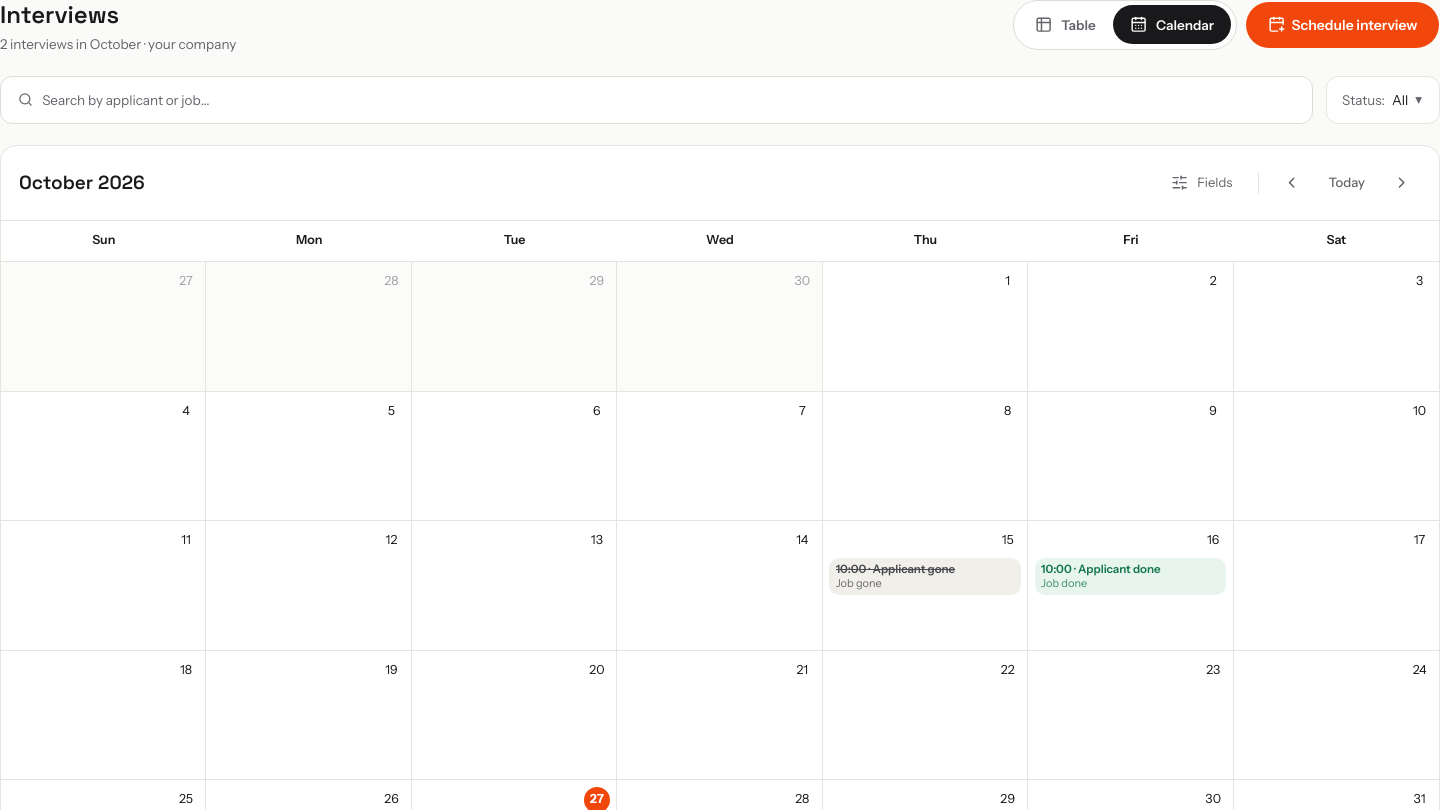
Test: Recruiter interviews calendar › offers a cancelled interview to be deleted from the summary, but not a completed one
Click the text "10:00 · Applicant gone" at (895, 569), box [836,562,955,576]
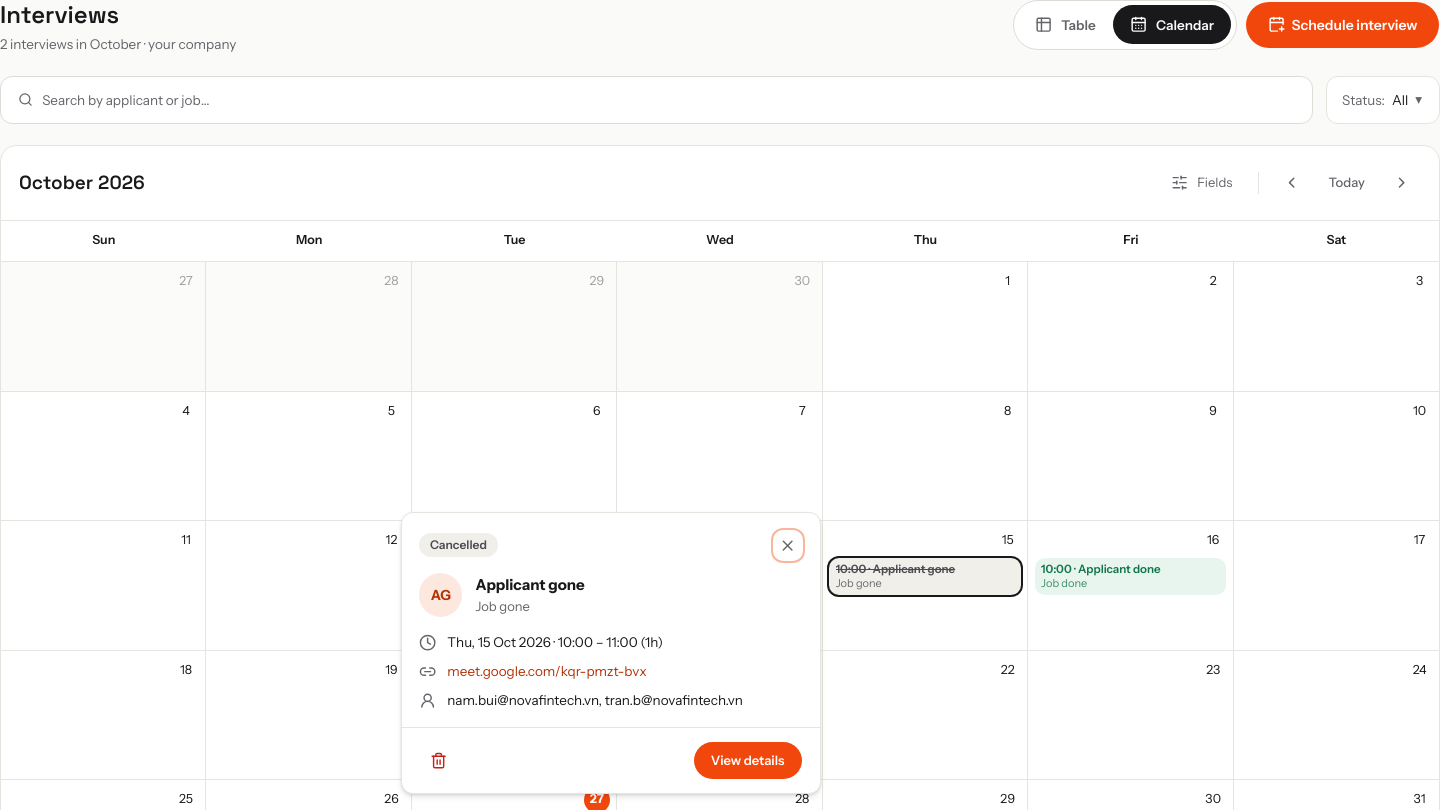
Now the button named "Delete interview" is shown, box [419,741,458,780]
Press Escape
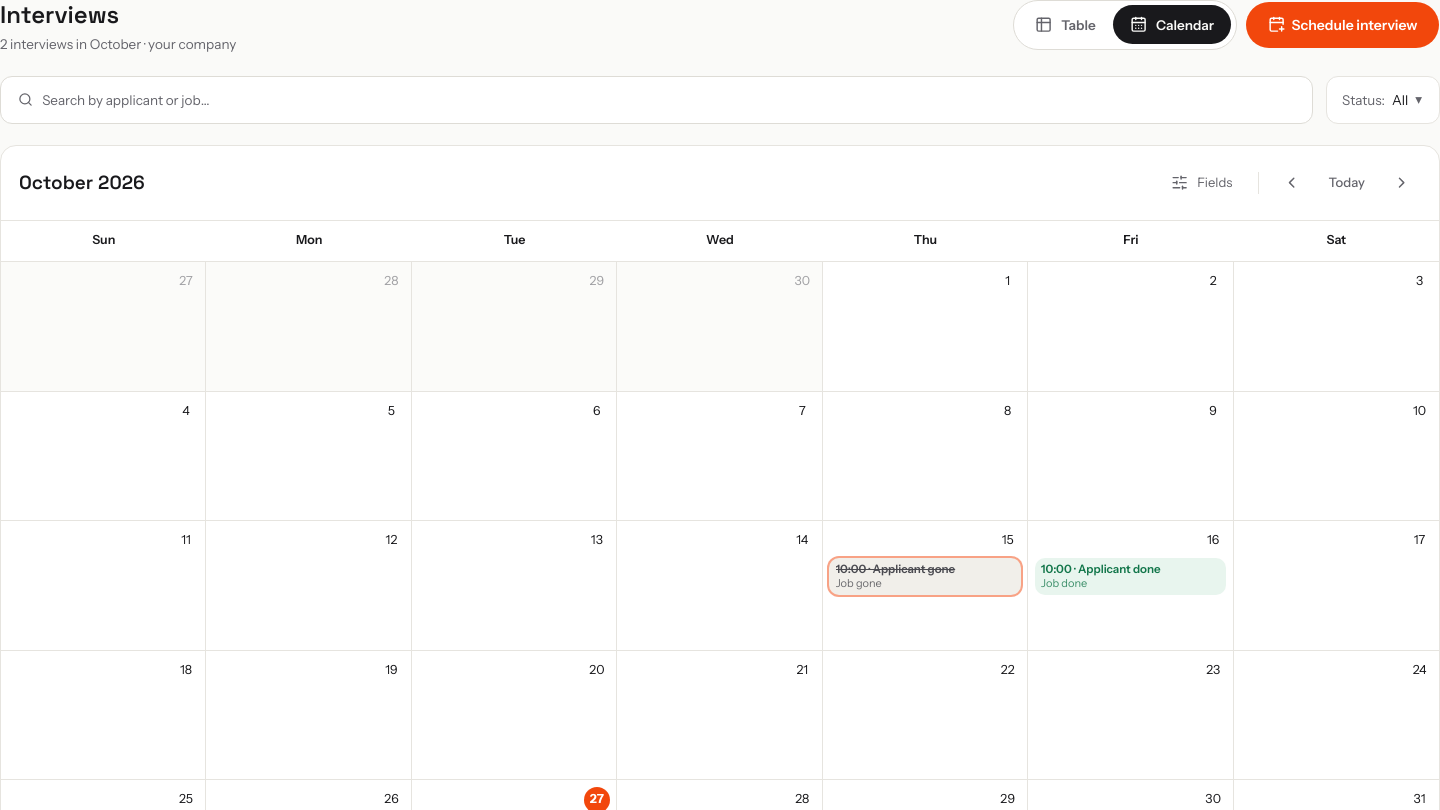
Click the text "10:00 · Applicant done" at (1101, 569), box [1041,562,1161,576]
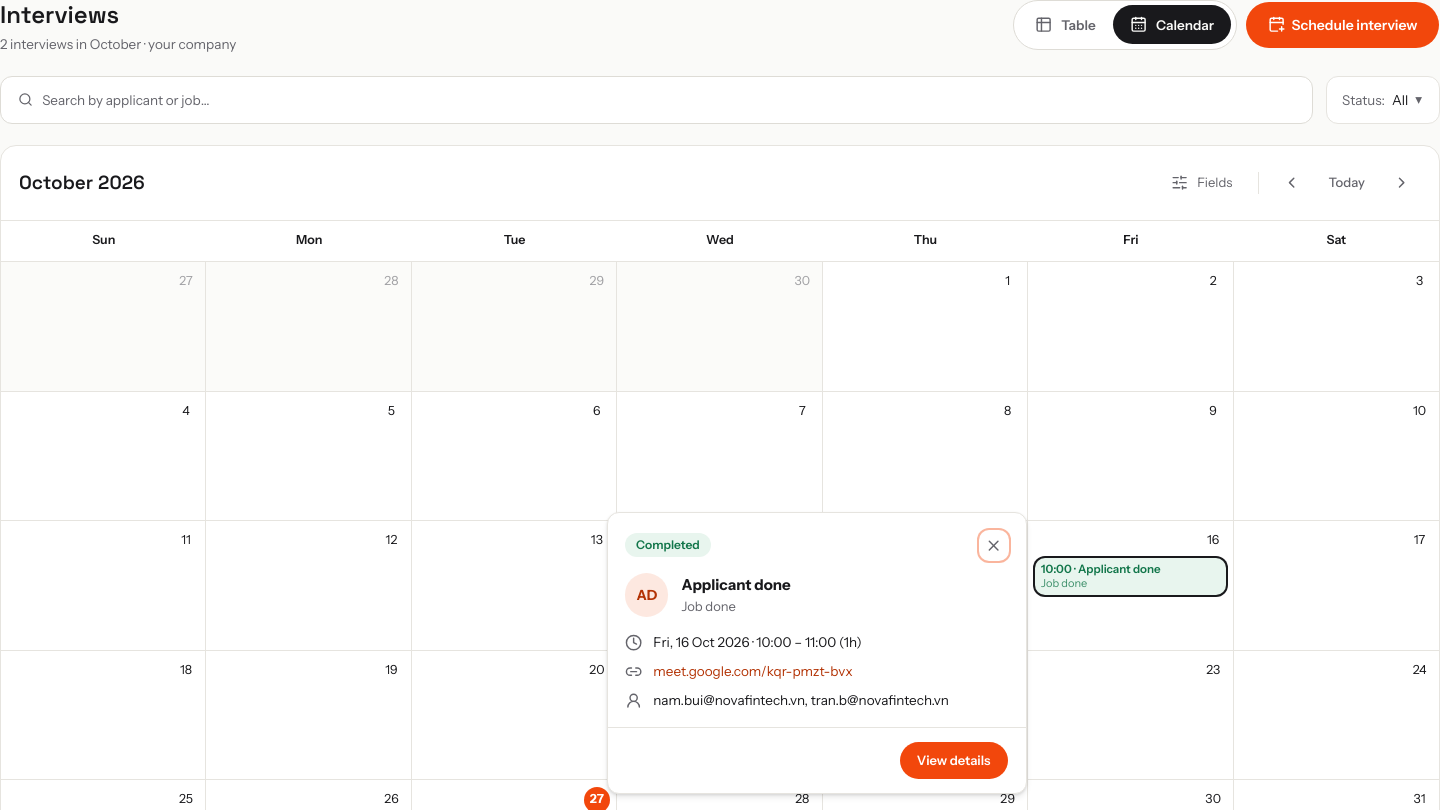
Now the link "View details" is shown, box [898,741,1009,780]
